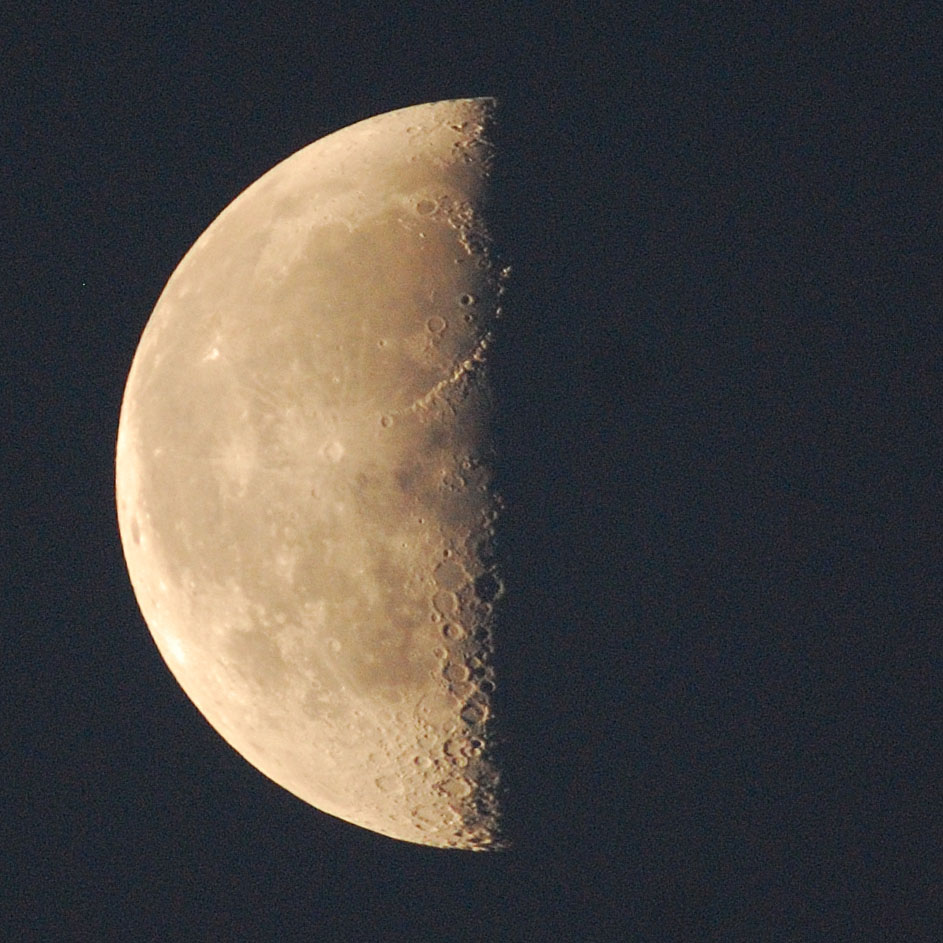crater: (295, 415, 362, 481), (370, 764, 412, 806), (471, 566, 509, 609), (359, 322, 397, 361), (414, 307, 451, 344), (316, 627, 352, 661), (413, 191, 444, 227), (374, 401, 406, 435), (399, 120, 438, 141), (411, 506, 438, 531), (455, 287, 479, 310)
